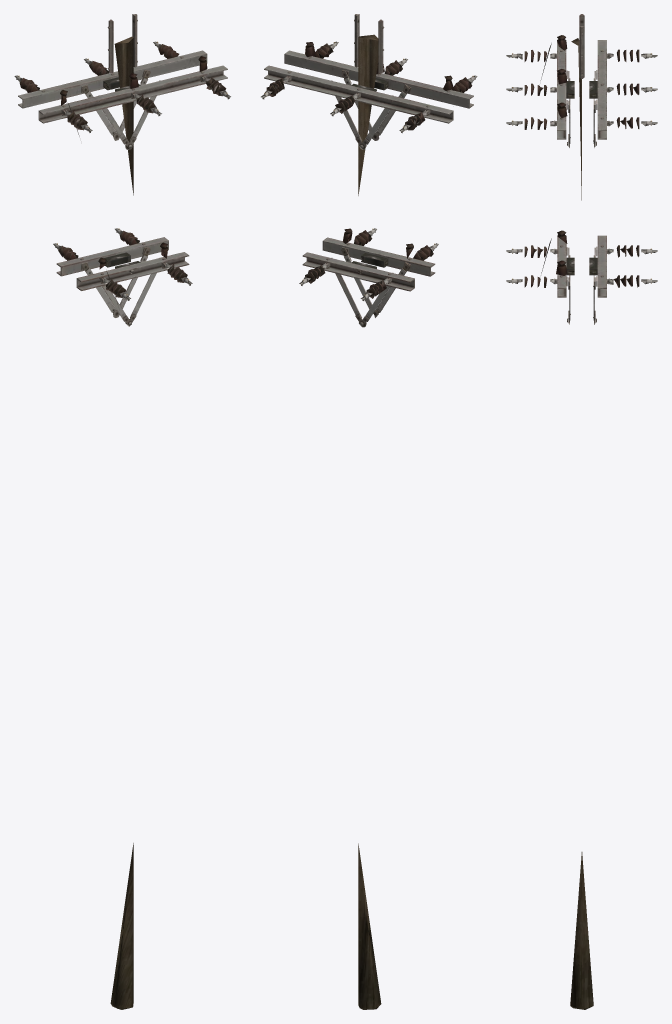
File: utility_pole_a.glb
The picture shows the model from 3 angles, left to right: view 1: azimuth 30°, elevation 25°; view 2: azimuth 150°, elevation 25°; view 3: azimuth 270°, elevation 25°; orthographic projection.
Parts seen in each view (by area): view 1: preset_02_cap, preset_02_pole; view 2: preset_02_cap, preset_02_pole; view 3: preset_02_cap, preset_02_pole.
Boxes of the visible parts, bbox=[...] form: preset_02_cap: bbox=[14, 14, 230, 326]; preset_02_pole: bbox=[110, 36, 133, 1009]; preset_02_cap: bbox=[261, 14, 477, 327]; preset_02_pole: bbox=[358, 34, 381, 1009]; preset_02_cap: bbox=[506, 14, 657, 324]; preset_02_pole: bbox=[570, 38, 593, 1009].
Size of the model in its own units: 1.2 by 6.13 by 0.8522.
2 materials, 2 textured.
